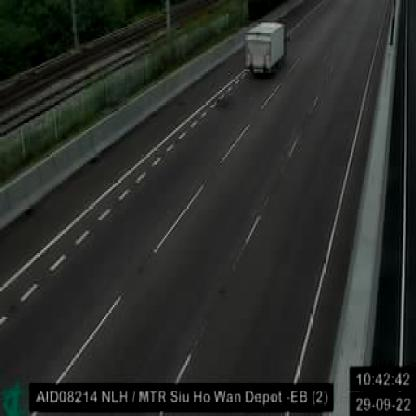Truck: (236, 14, 290, 76)
